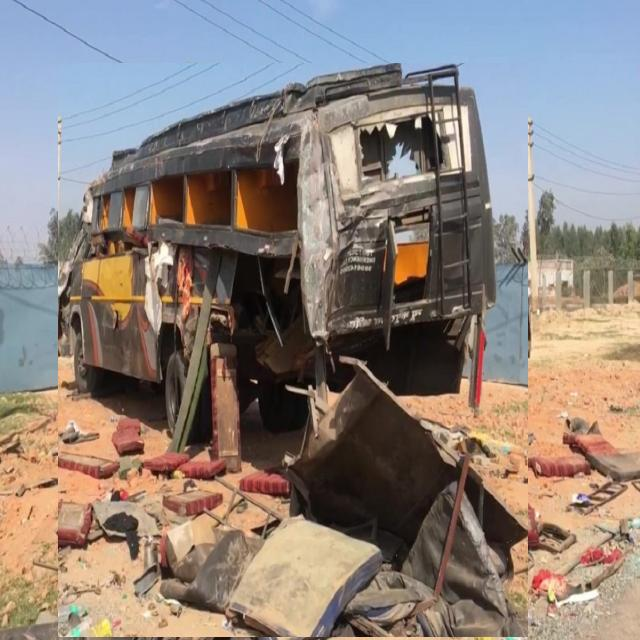accident: (59, 63, 528, 637)
